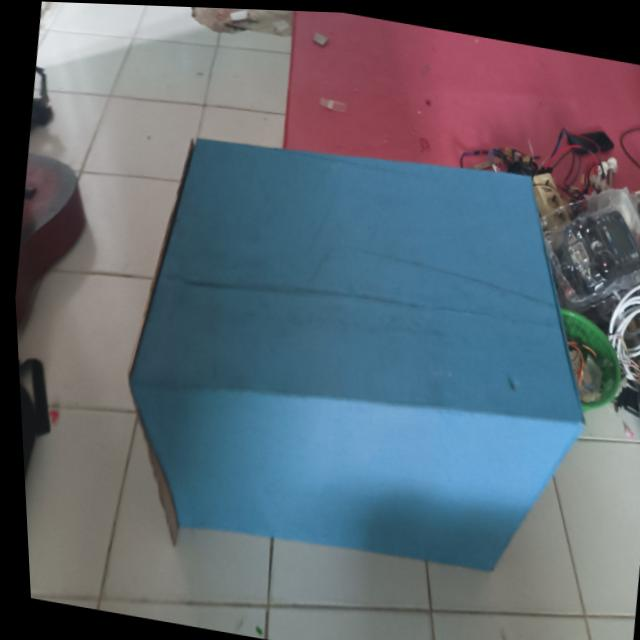blue_box: (71, 67, 618, 640)
